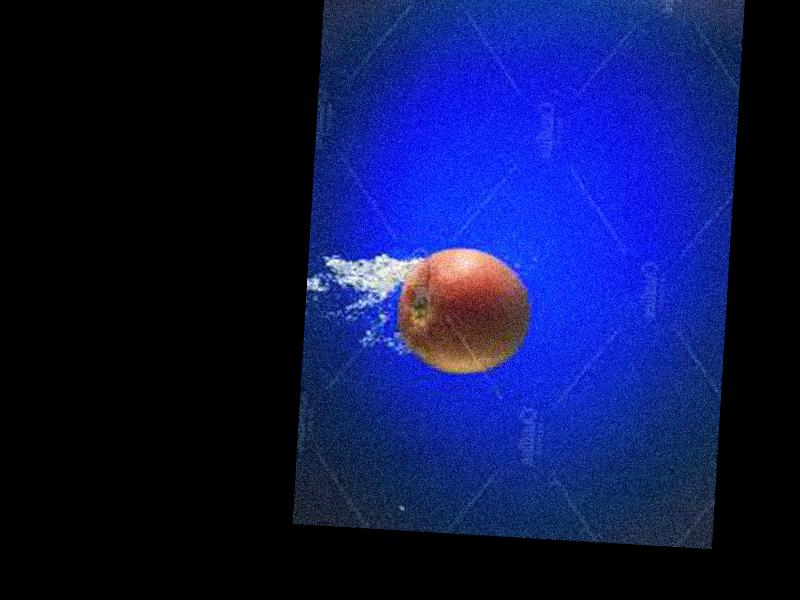Tomato: (394, 245, 529, 378)
